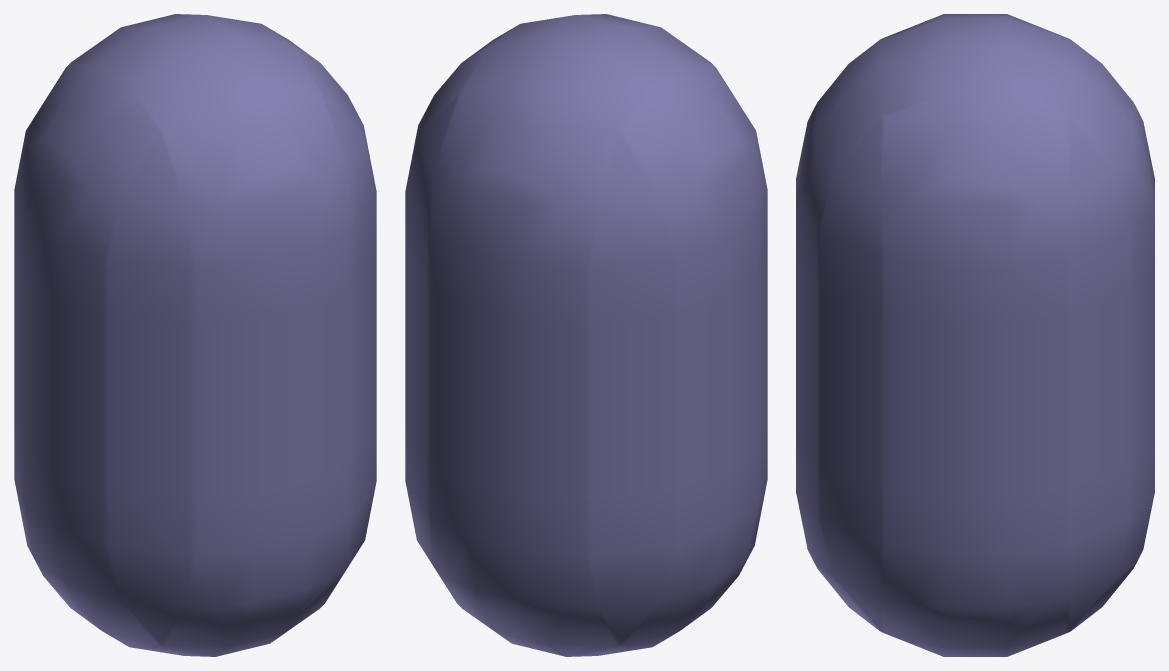
The model's file is player.obj.
3 renders of one model, left to right at view 1: azimuth 30°, elevation 25°; view 2: azimuth 150°, elevation 25°; view 3: azimuth 270°, elevation 25°, orthographic.
Visible parts, largest first — view 1: Mball.001; view 2: Mball.001; view 3: Mball.001.
Part boxes in pixels (bbox=[...]): Mball.001: bbox=[14, 14, 376, 656]; Mball.001: bbox=[405, 14, 767, 656]; Mball.001: bbox=[796, 14, 1154, 656].
Bounding box in the file's own units: 0.7933 × 1.48 × 0.7933.
